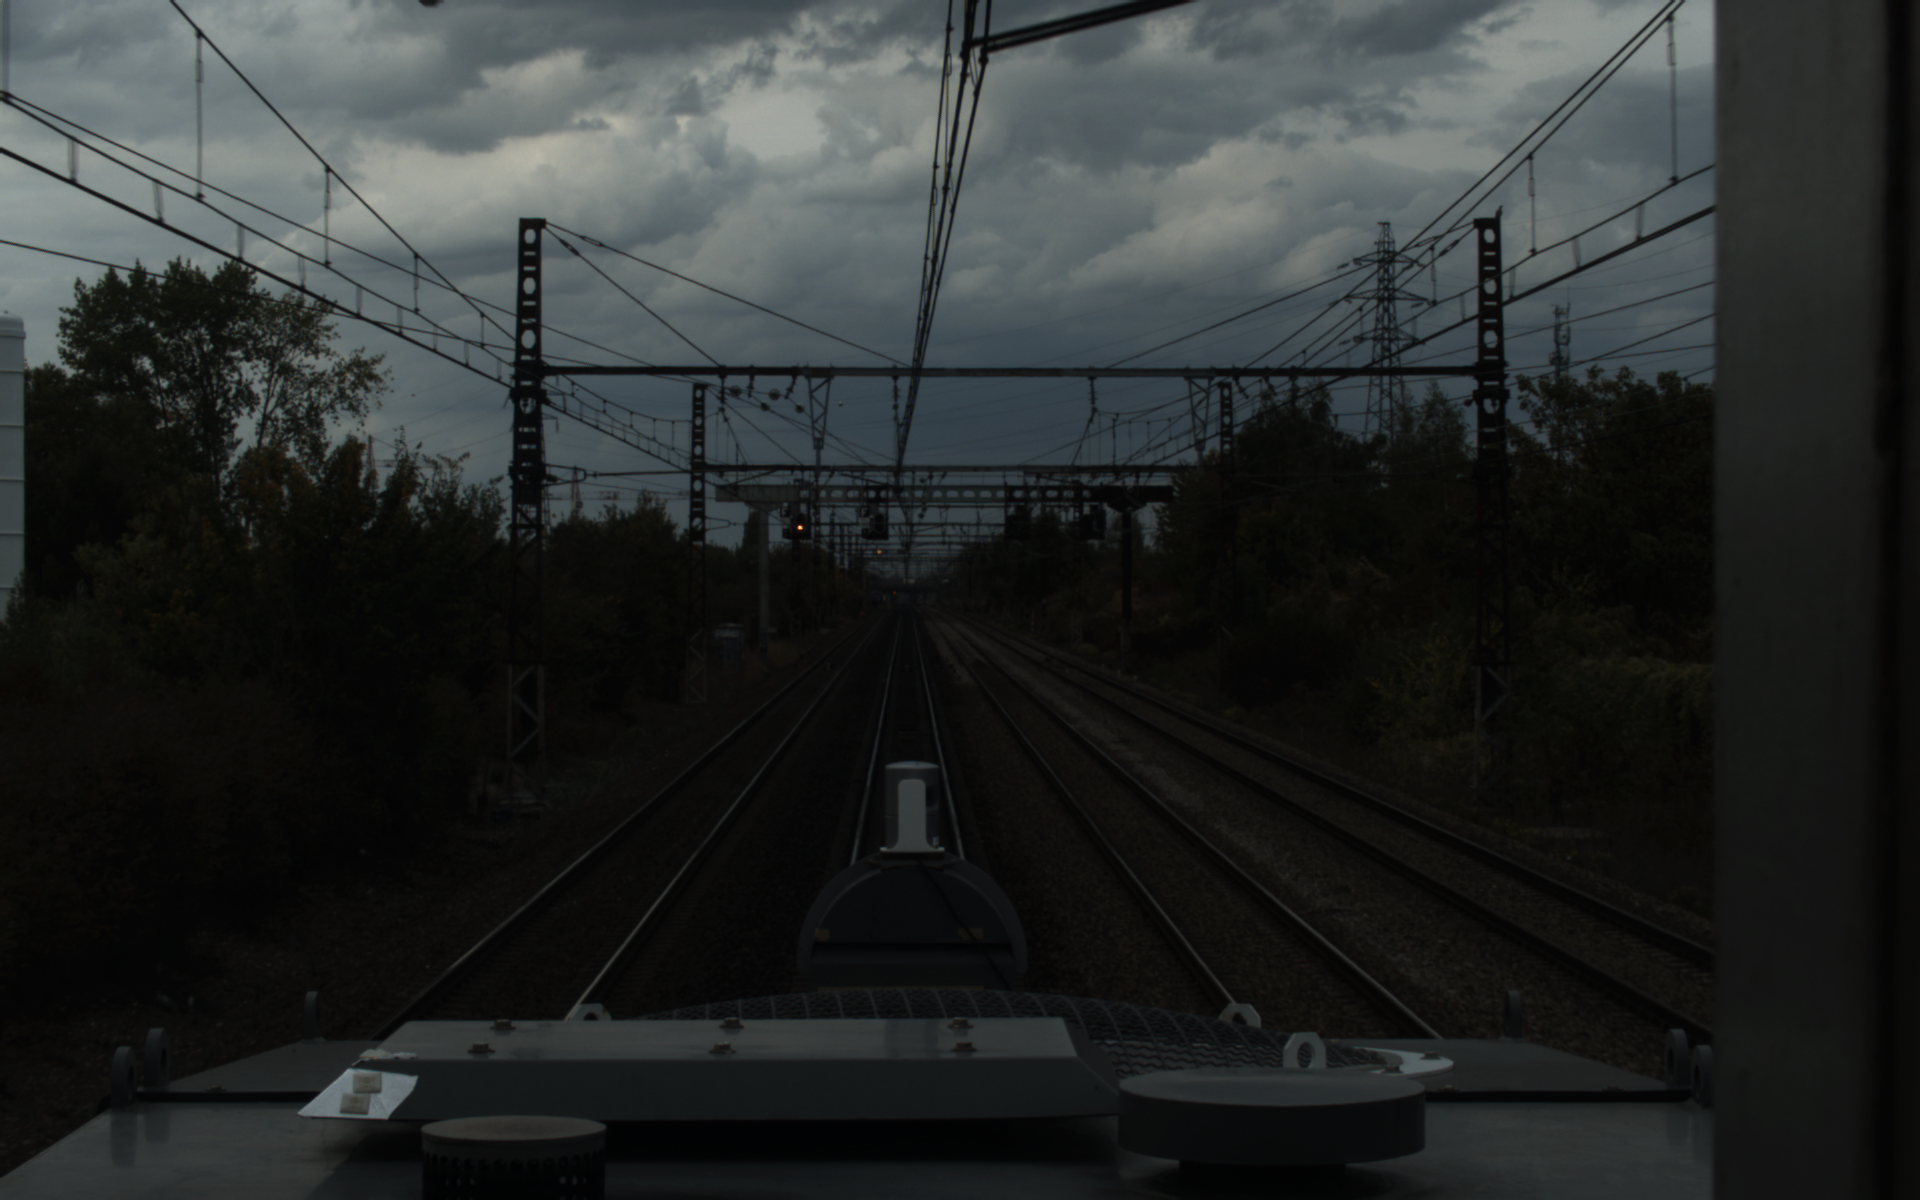Blinking: (871, 510, 886, 534)
Fixed: (793, 512, 807, 534)
